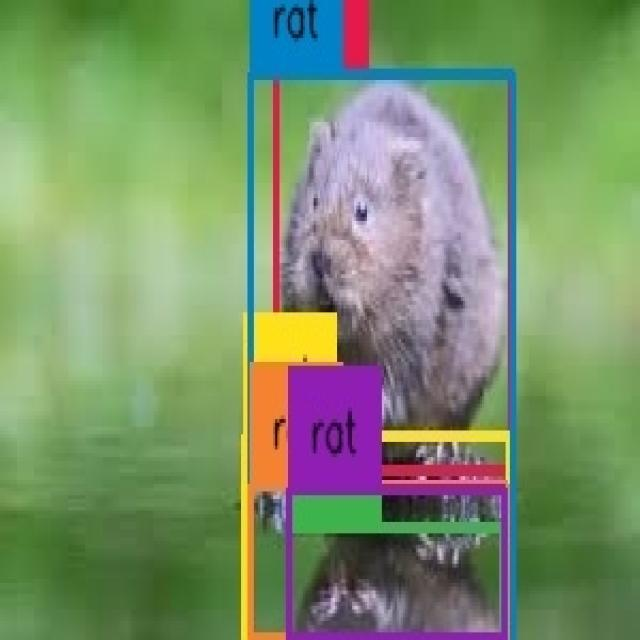rat: (251, 73, 513, 636), (276, 74, 511, 470), (244, 436, 509, 638), (250, 486, 507, 638), (288, 490, 506, 638), (290, 528, 504, 638)
